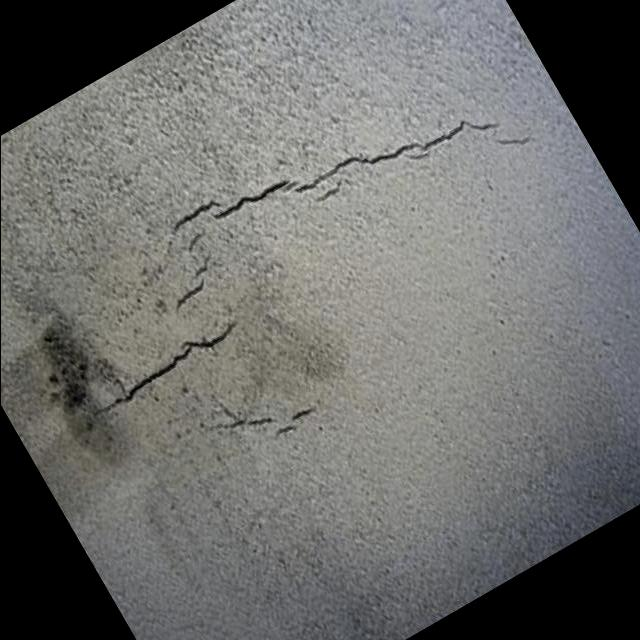defect: (168, 116, 534, 316), (90, 320, 236, 420), (221, 402, 320, 440)
